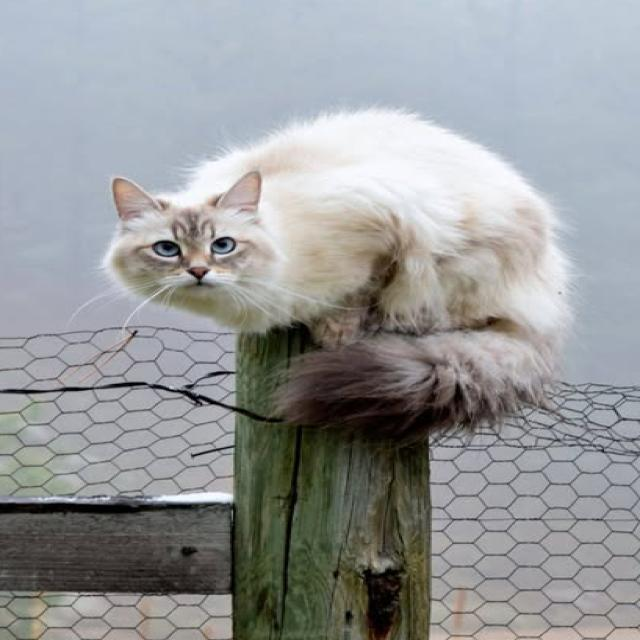Neva Masquerade: (92, 101, 580, 441)
